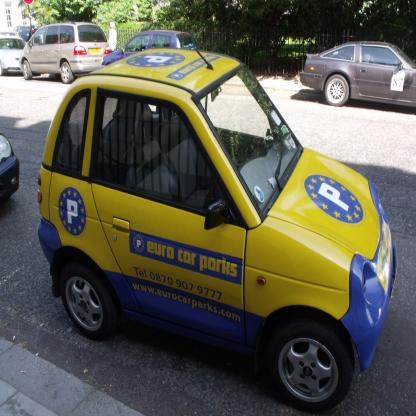Car: (38, 39, 399, 414), (294, 34, 416, 107), (21, 19, 116, 87), (101, 26, 200, 69), (1, 131, 22, 210), (1, 31, 32, 79)
